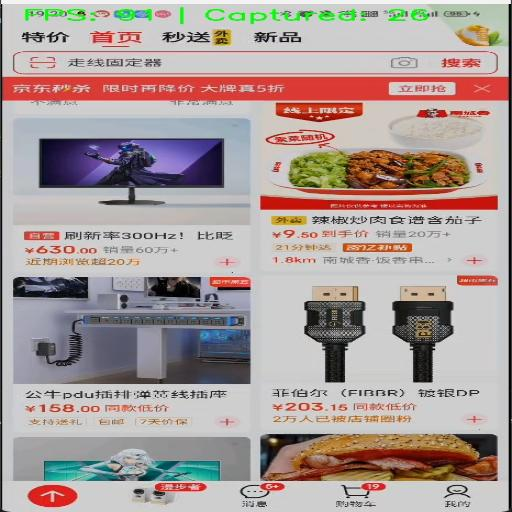butten: (10, 120, 254, 273), (14, 278, 249, 434), (265, 274, 492, 434), (316, 479, 394, 510), (16, 482, 92, 512), (421, 482, 492, 512), (231, 482, 294, 510), (0, 26, 77, 48), (80, 27, 150, 50), (234, 29, 314, 49), (160, 28, 224, 50)
input: (9, 54, 493, 74)
